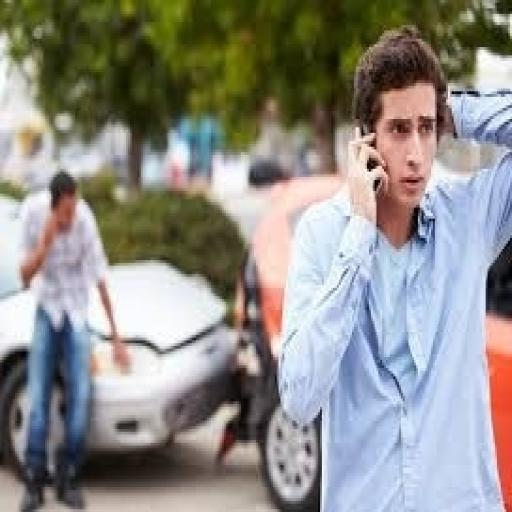calling: (275, 25, 510, 509)
